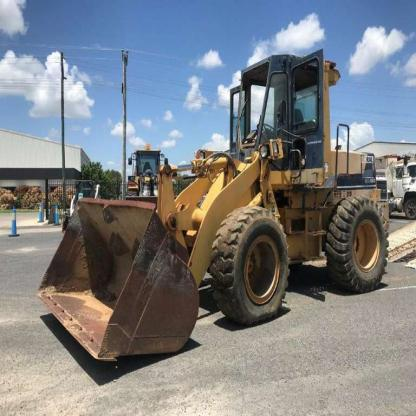bull_dozer/loader/grader: (38, 43, 398, 382)
